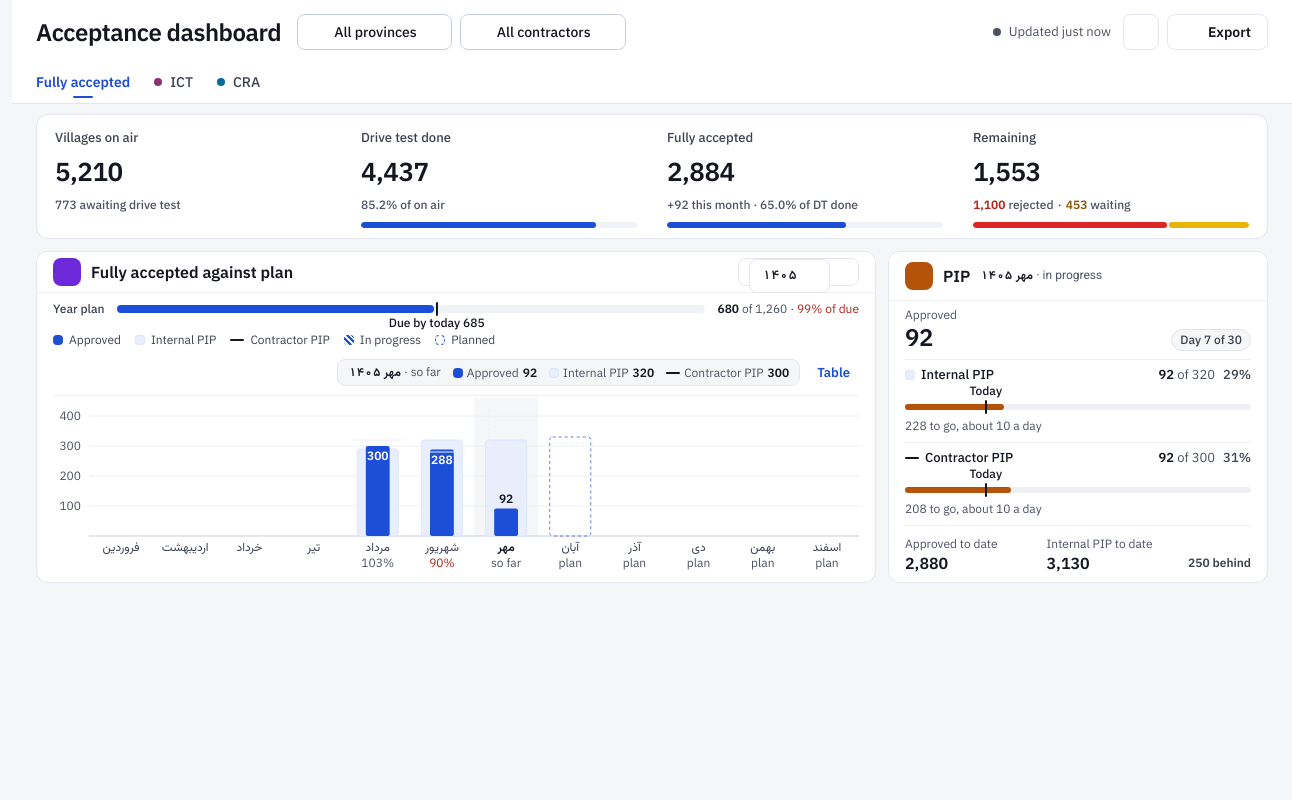
Test: the year chart › opens a month when it is clicked, never one to come
The image size is (1292, 800).
Expected: the text with test id "pip-approved" reads "92", [905, 321, 933, 353]
Click the button with aria-label "Show شهریور ۱۴۰۵" at (442, 555), box [410, 536, 474, 574]
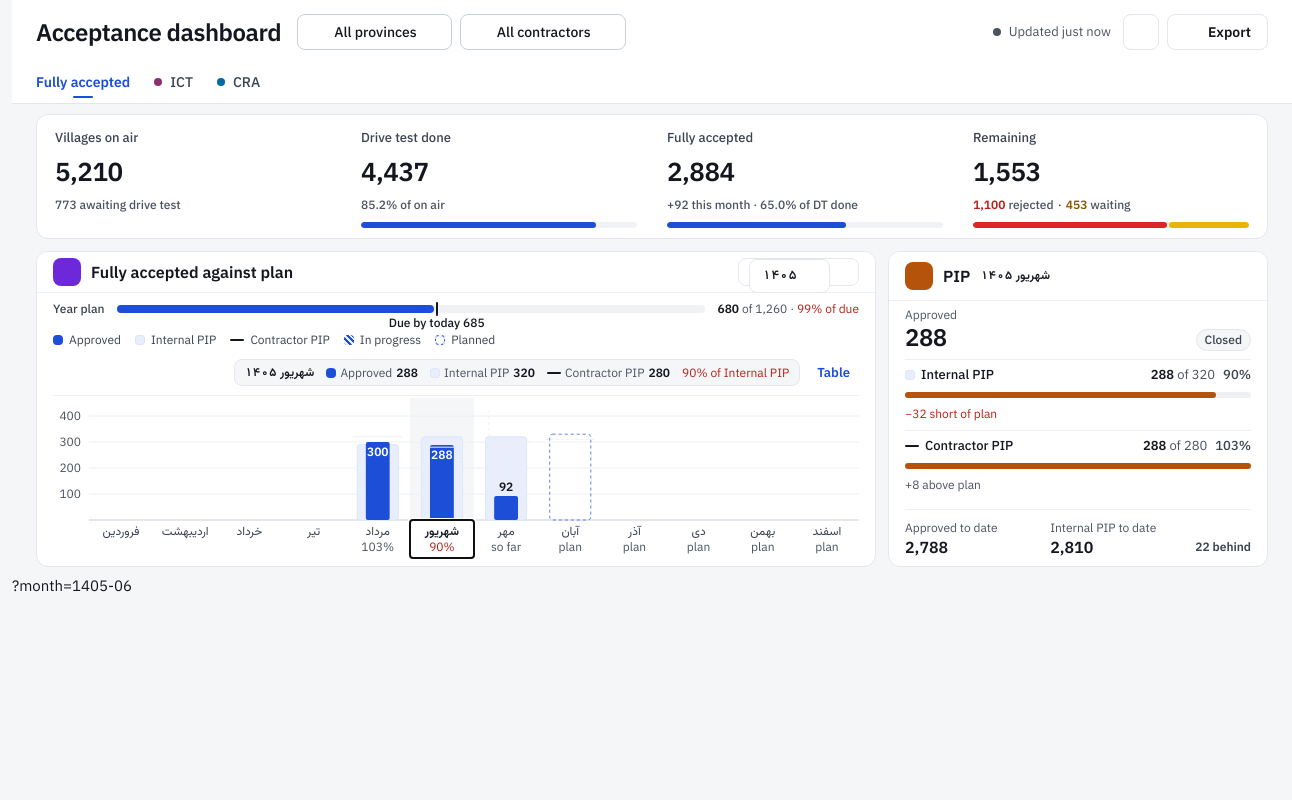
Expected: the text with test id "location" shows "month=1405-06", [12, 576, 132, 595]
Expected: the text with test id "pip-approved" reads "288", [905, 321, 947, 353]
Expected: the text with test id "pip-status" reads "Closed", [1204, 332, 1242, 347]
